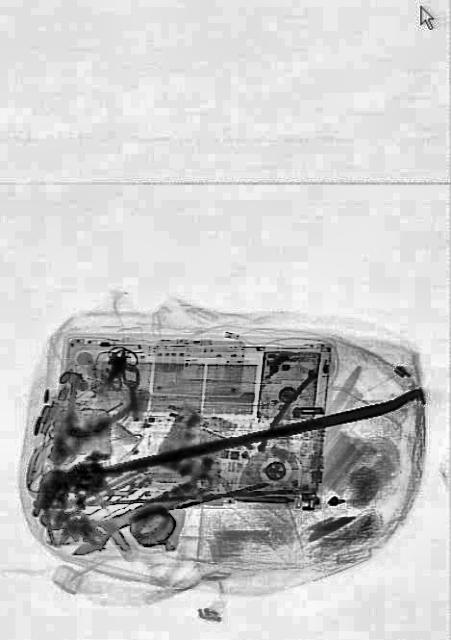Wrench: (54, 456, 212, 564)
